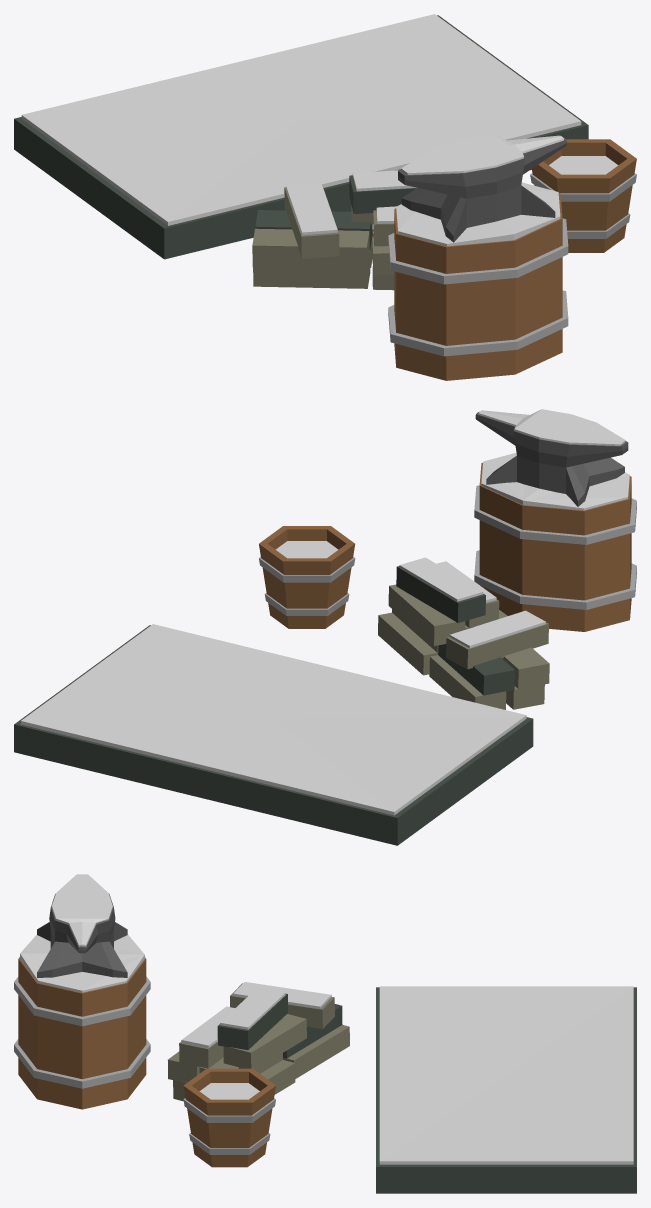
Rendered from Smithy_build_snow_mat.fbx.
3 renders of one model, top to bottom at view 1: azimuth 30°, elevation 25°; view 2: azimuth 150°, elevation 25°; view 3: azimuth 270°, elevation 25°, orthographic. The views are drawn at different scales.
Parts seen in each view (by area): view 1: Smithy_build_snow_mat; view 2: Smithy_build_snow_mat; view 3: Smithy_build_snow_mat.
Boxes of the visible parts, <box> form: Smithy_build_snow_mat: <box>14,14,636,380</box>; Smithy_build_snow_mat: <box>14,409,636,845</box>; Smithy_build_snow_mat: <box>14,874,636,1193</box>.
Size of the model in its own units: 1.42 by 0.626 by 2.08.
